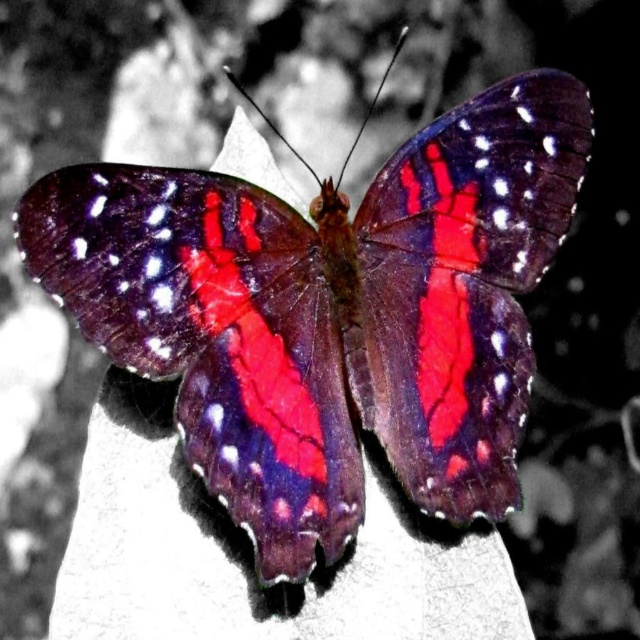Butterfly: (14, 20, 596, 590)
